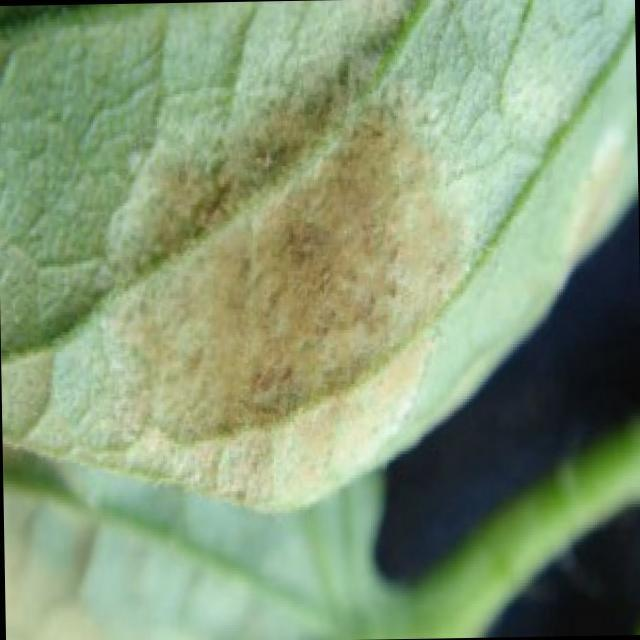Mosaic Virus: (84, 60, 465, 509)
